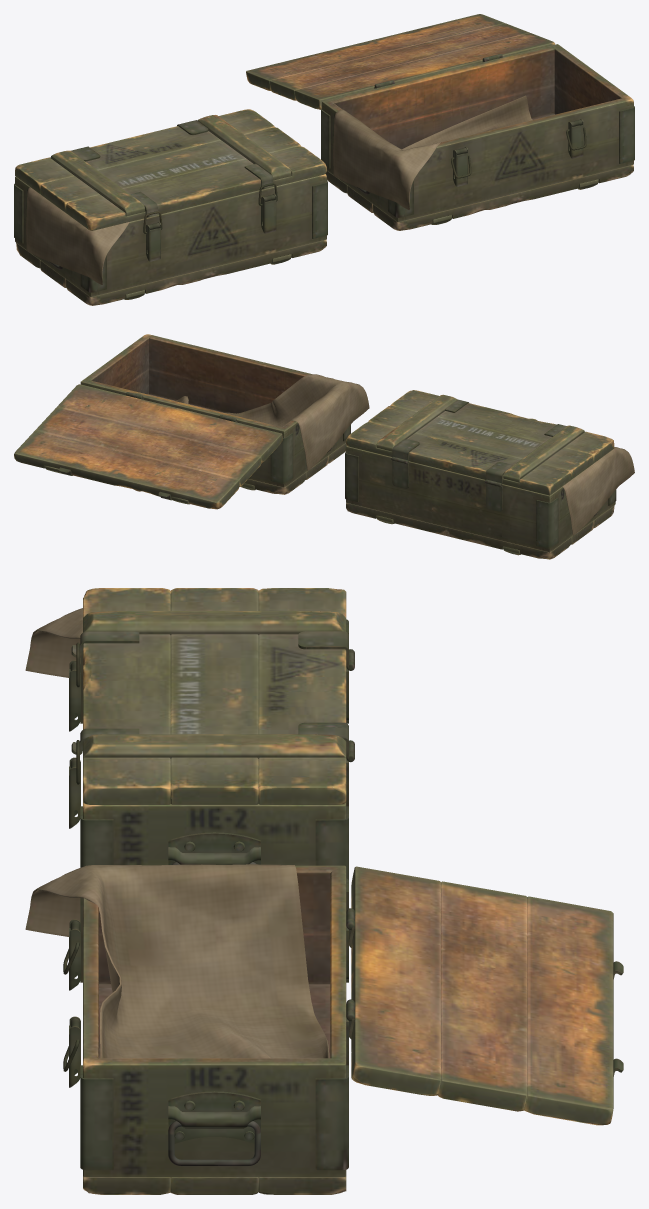
File: old_military_crate.glb
The picture shows the model from 3 angles, top to bottom: view 1: azimuth 30°, elevation 25°; view 2: azimuth 150°, elevation 25°; view 3: azimuth 270°, elevation 25°; orthographic projection. The views are drawn at different scales.
Parts seen in each view (by area): view 1: old_military_crate_b, old_military_crate_lid_a, old_military_crate_a, old_military_crate_lid_b, old_military_crate_cloth_b, old_military_crate_cloth_a, old_military_crate_latch_a, old_military_crate_latch_b; view 2: old_military_crate_lid_b, old_military_crate_lid_a, old_military_crate_a, old_military_crate_b, old_military_crate_cloth_b, old_military_crate_cloth_a; view 3: old_military_crate_lid_a, old_military_crate_lid_b, old_military_crate_b, old_military_crate_cloth_b, old_military_crate_a, old_military_crate_cloth_a, old_military_crate_latch_b, old_military_crate_latch_a.
Boxes of the visible parts, bbox=[...] form: old_military_crate_b: bbox=[321, 44, 634, 230]; old_military_crate_lid_a: bbox=[15, 109, 326, 230]; old_military_crate_a: bbox=[14, 174, 327, 305]; old_military_crate_lid_b: bbox=[246, 14, 555, 109]; old_military_crate_cloth_b: bbox=[333, 95, 532, 209]; old_military_crate_cloth_a: bbox=[26, 187, 129, 284]; old_military_crate_latch_a: bbox=[146, 194, 276, 261]; old_military_crate_latch_b: bbox=[453, 119, 583, 186]; old_military_crate_lid_b: bbox=[14, 384, 282, 509]; old_military_crate_lid_a: bbox=[346, 390, 614, 495]; old_military_crate_a: bbox=[345, 446, 616, 559]; old_military_crate_b: bbox=[80, 334, 350, 494]; old_military_crate_cloth_b: bbox=[174, 374, 369, 470]; old_military_crate_cloth_a: bbox=[562, 447, 634, 535]; old_military_crate_lid_a: bbox=[71, 588, 354, 804]; old_military_crate_lid_b: bbox=[346, 866, 623, 1125]; old_military_crate_b: bbox=[80, 865, 354, 1194]; old_military_crate_cloth_b: bbox=[25, 864, 329, 1058]; old_military_crate_a: bbox=[80, 619, 354, 879]; old_military_crate_cloth_a: bbox=[25, 608, 82, 677]; old_military_crate_latch_b: bbox=[69, 919, 80, 1087]; old_military_crate_latch_a: bbox=[69, 660, 80, 828].
Size of the model in its own units: 1.82 by 0.3009 by 0.9757.
1 material, 1 textured.
